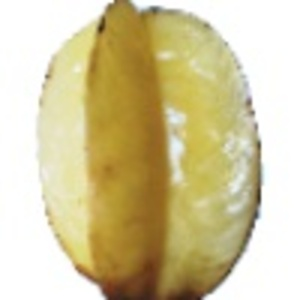carambola: (37, 1, 267, 300)
